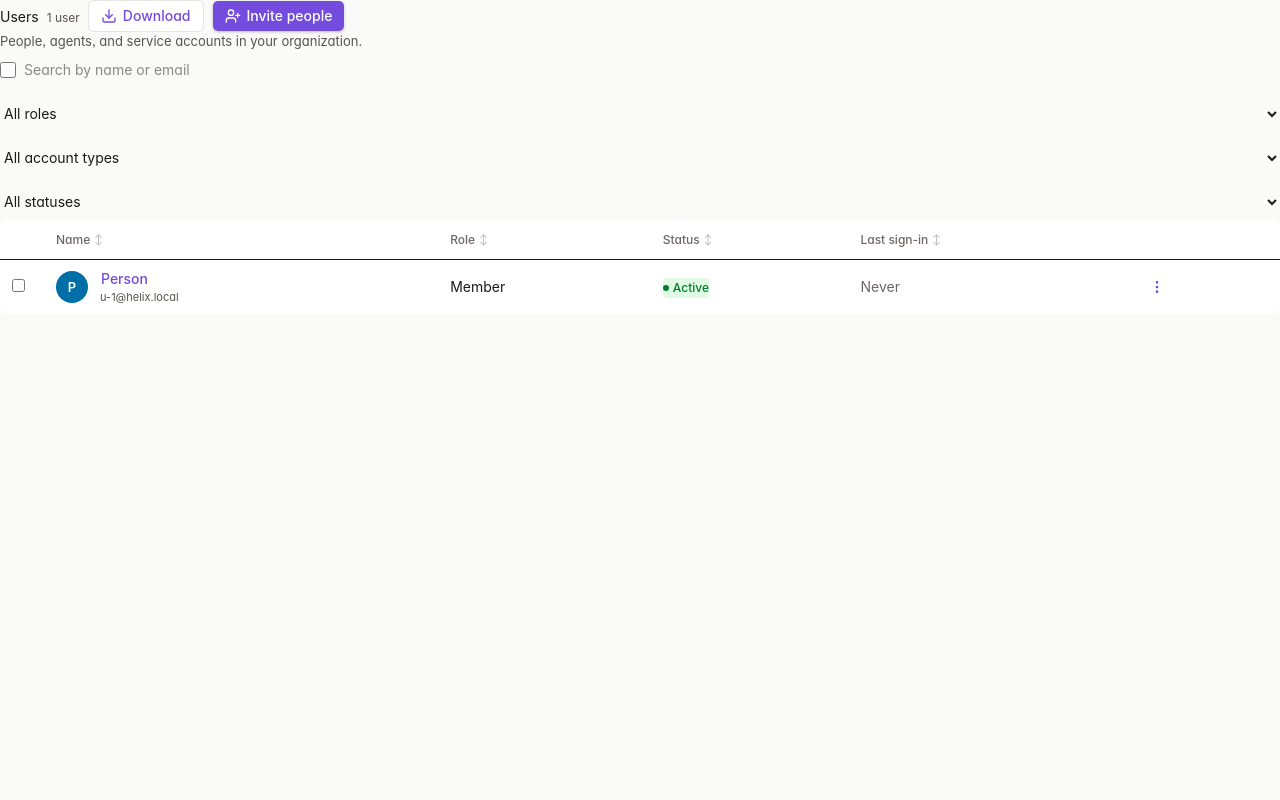
Test case: AdminUsers › opens the invite dialog from the toolbar
What coordinates should you click on to do the following:
click the button "Invite people"
I would click on:
 (278, 16)
Its box is [212,0,345,32].
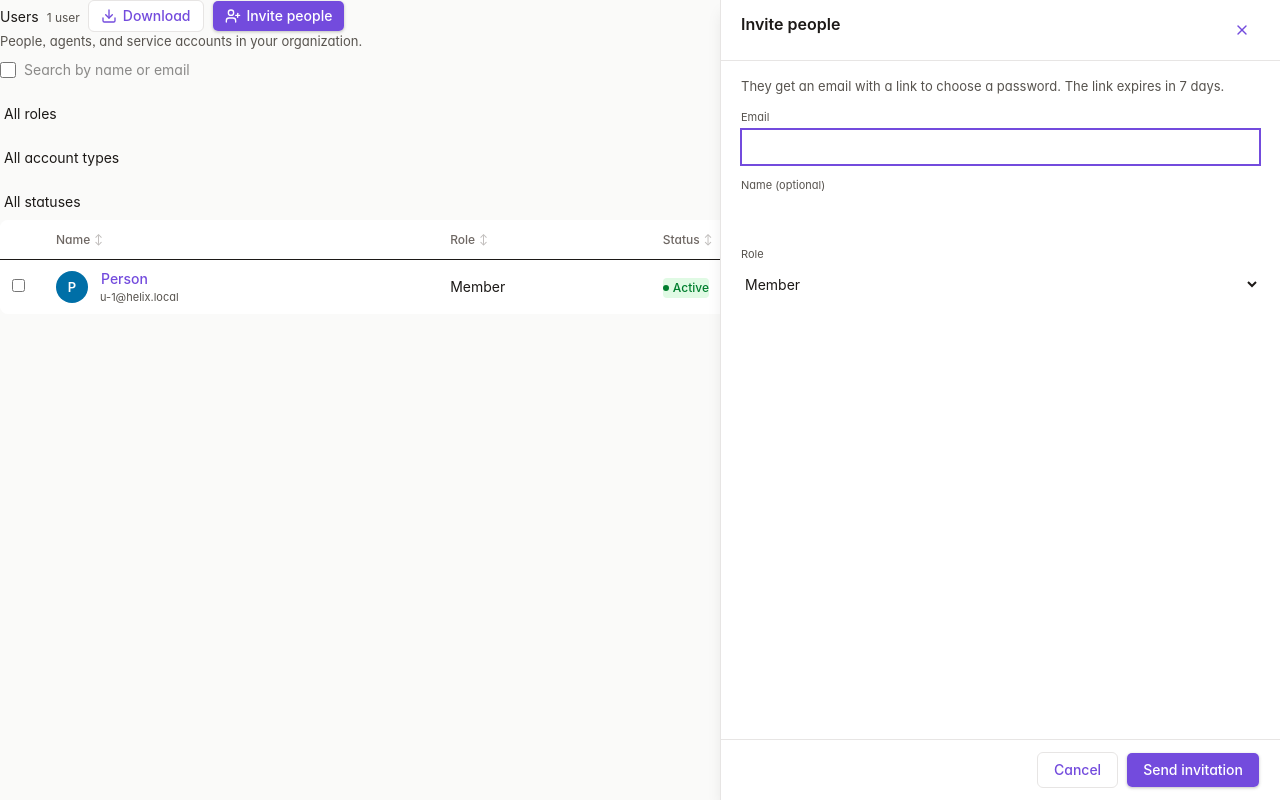
Expected: the text "Send invitation" is shown, [1126,752,1260,788]
